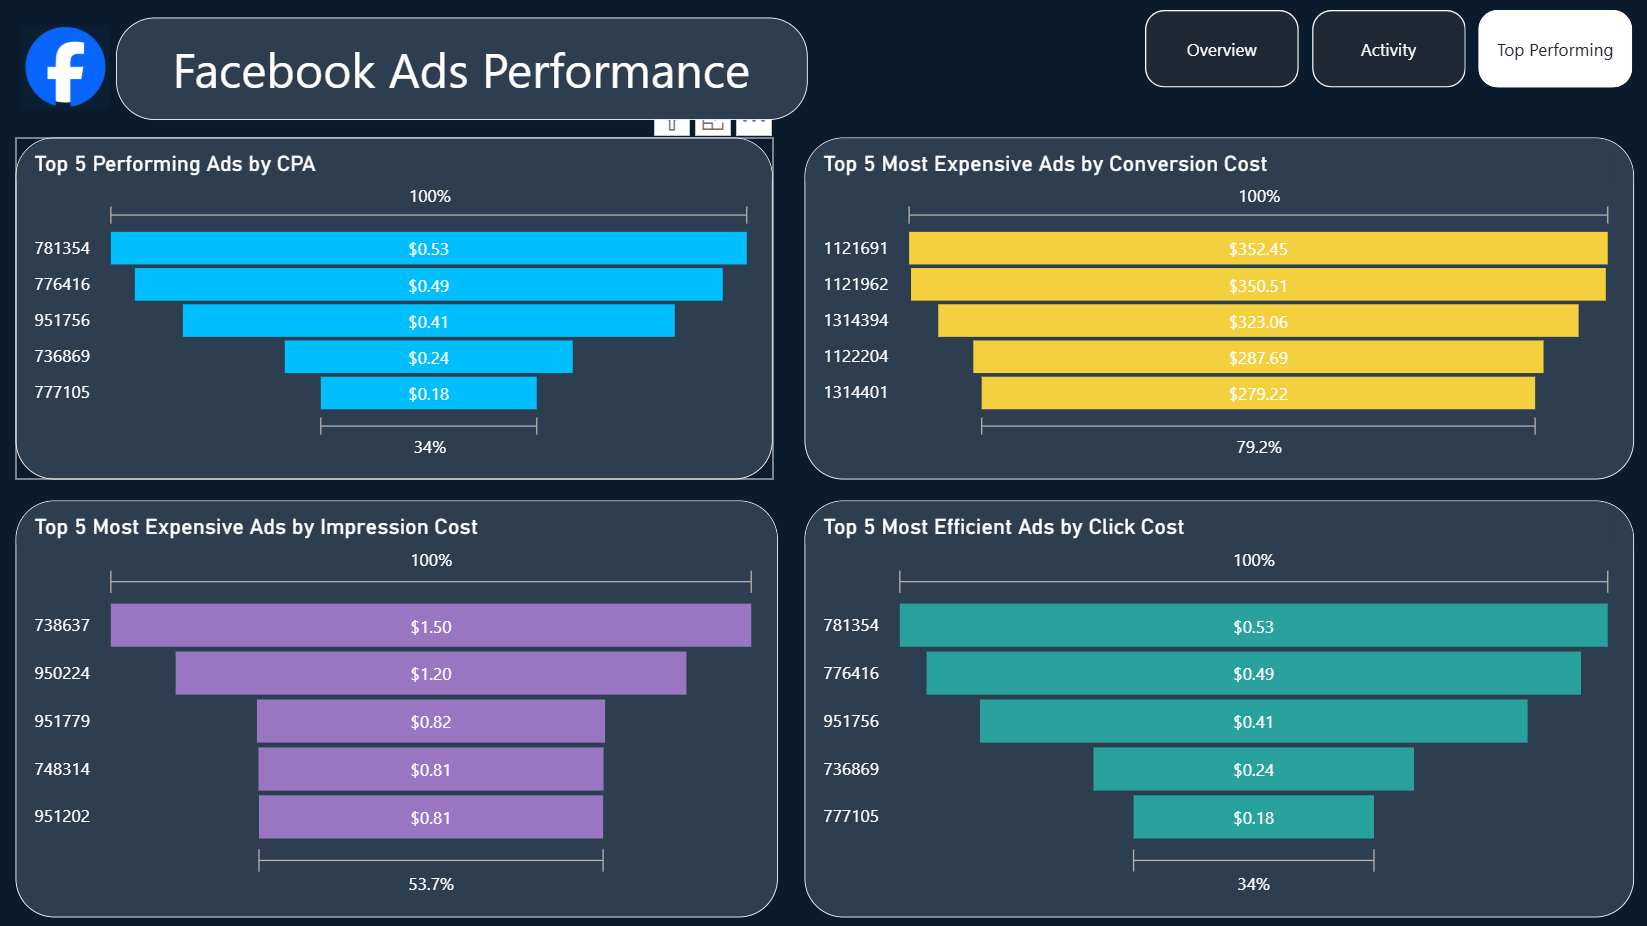

This screenshot's page, from the dashboard's own definition file:
{"tool":"powerbi","page":{"name":"Top Performing","canvas":[1280,720],"ordinal":2},"visuals":[{"type":"funnel","title":"Top 5 Most Expensive Ads by Impression Cost","fields":{"Y":["data.CPM"],"Category":["data.ad_id"]},"box":[12.8,388.9,589.7,322.7],"z":0},{"type":"funnel","title":"Top 5 Most Efficient Ads by Click Cost","fields":{"Category":["data.ad_id"],"Y":["data.CPC"]},"box":[623.4,388.9,641.9,322.7],"z":1000},{"type":"funnel","title":"Top 5 Most Expensive Ads by Conversion Cost","fields":{"Category":["data.ad_id"],"Y":["data.CPAC"]},"box":[623.4,108,641.9,264.7],"z":2000},{"type":"funnel","title":"Top 5 Performing Ads by CPA","fields":{"Category":["data.ad_id"],"Y":["data.CPA"]},"box":[12.8,108,586.2,264.7],"z":3000},{"type":"pageNavigator","box":[886.9,9.3,378.4,60.4],"z":4000},{"type":"textbox","box":[91,15.2,535.2,79.3],"z":5000},{"type":"image","box":[10.5,14,80.5,80.5],"z":6000}]}

Visuals, with their boxes in screenshot pixels (x1, y1, x2, y2), scaled from the page's 1280x720 canvas onto the 1647x926 screenshot:
"Top 5 Most Expensive Ads by Impression Cost" funnel: box(16, 500, 775, 915)
"Top 5 Most Efficient Ads by Click Cost" funnel: box(802, 500, 1628, 915)
"Top 5 Most Expensive Ads by Conversion Cost" funnel: box(802, 139, 1628, 479)
"Top 5 Performing Ads by CPA" funnel: box(16, 139, 771, 479)
pageNavigator: box(1141, 12, 1628, 90)
textbox: box(117, 20, 806, 122)
image: box(14, 18, 117, 122)
